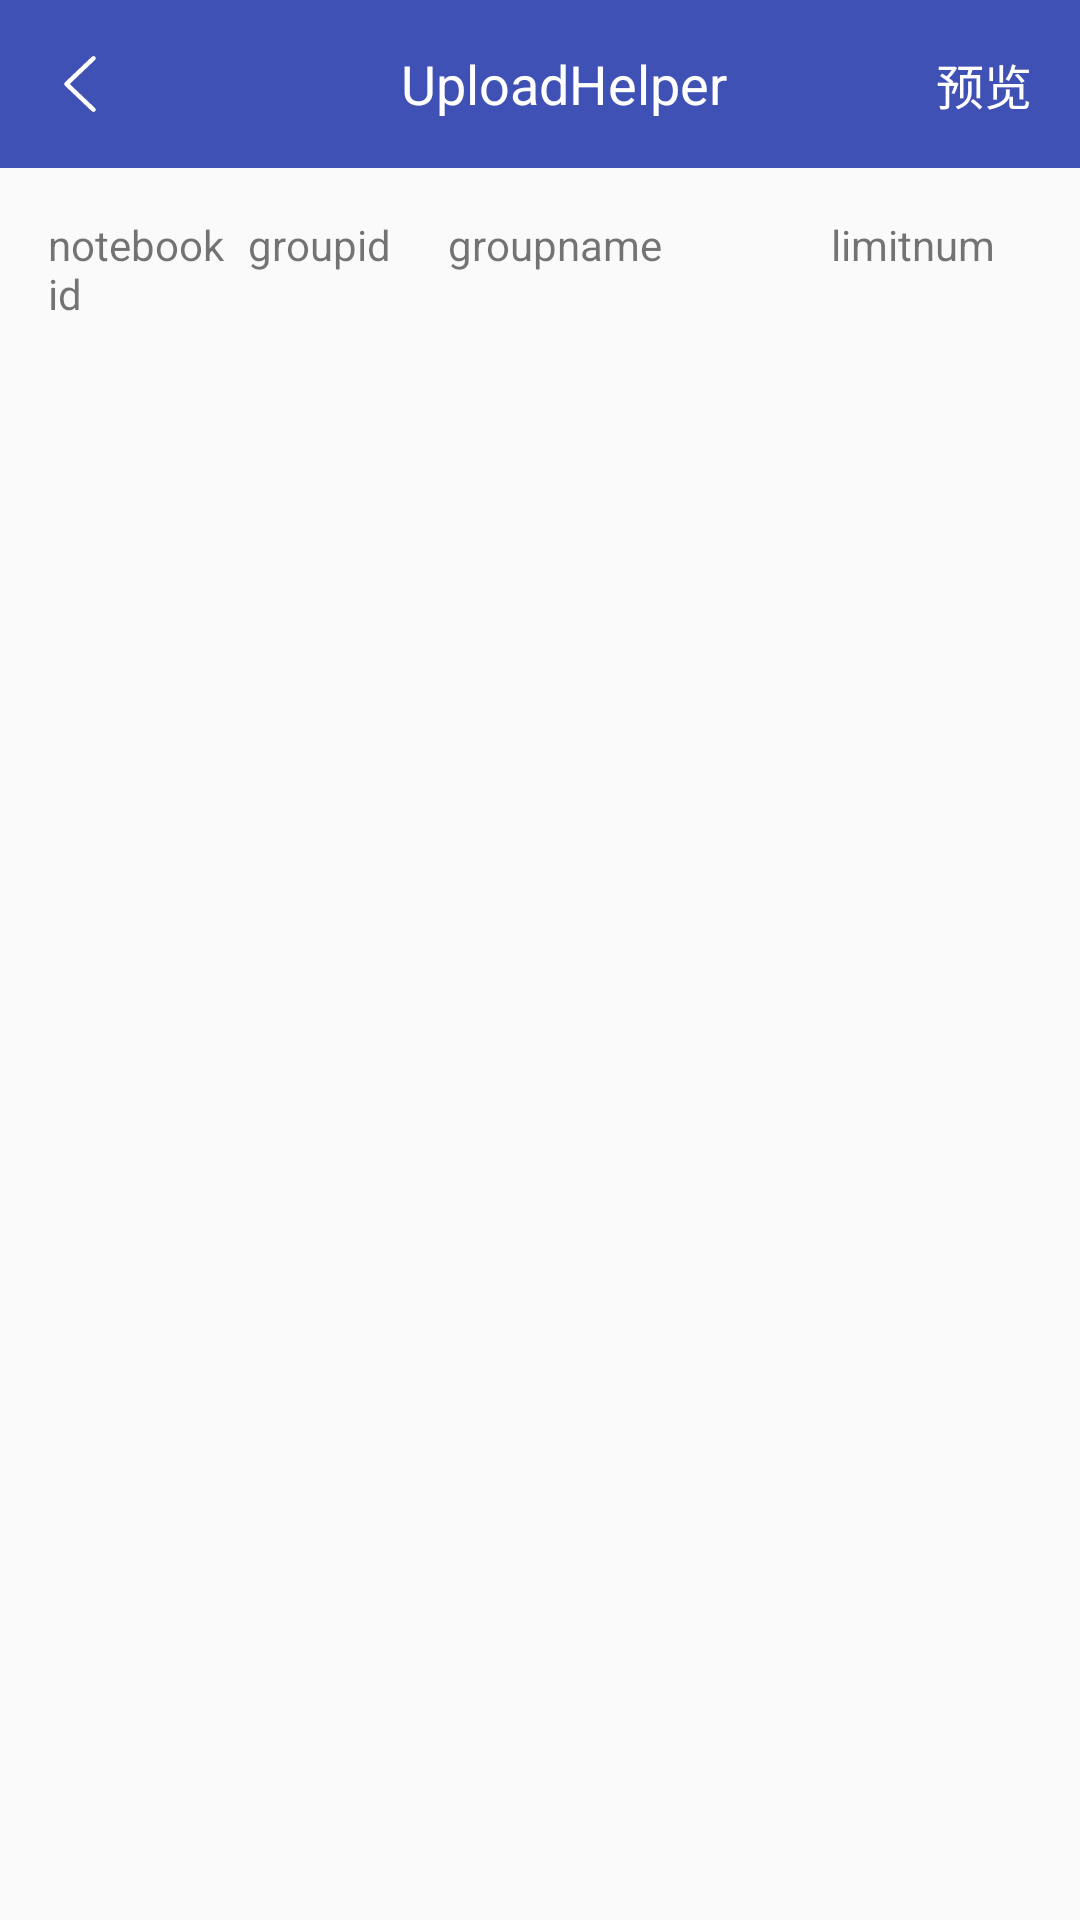

Icon click points for this 1080×1920 phone screenshot, format [x,y]:
back: [80,84]
